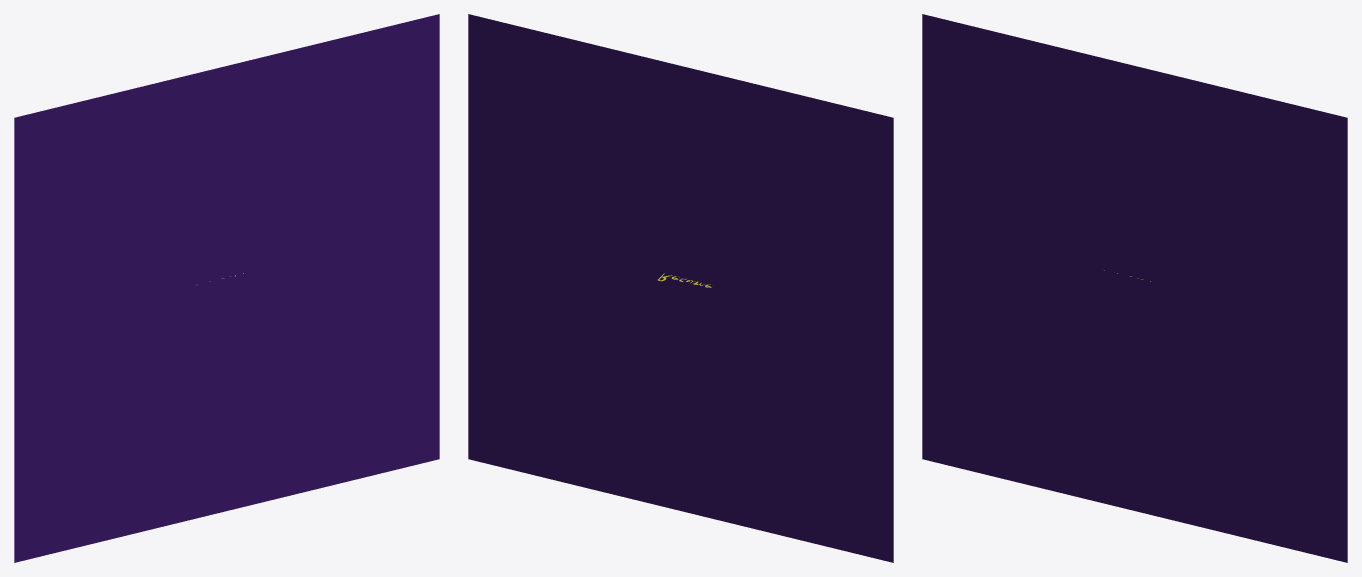
File: resumePauseMenuButton.obj
3 renders of one model, left to right at view 1: azimuth 30°, elevation 25°; view 2: azimuth 150°, elevation 25°; view 3: azimuth 330°, elevation 25°, orthographic.
Parts seen in each view (by area): view 1: resumePauseMenuButton; view 2: resumePauseMenuButton; view 3: resumePauseMenuButton.
Part boxes in pixels (box(x1,y1,x2,y2)): resumePauseMenuButton: box(14, 14, 439, 562); resumePauseMenuButton: box(468, 14, 893, 562); resumePauseMenuButton: box(922, 14, 1347, 562).
Size of the model in its own units: 2 by 2 by 0.0821.
